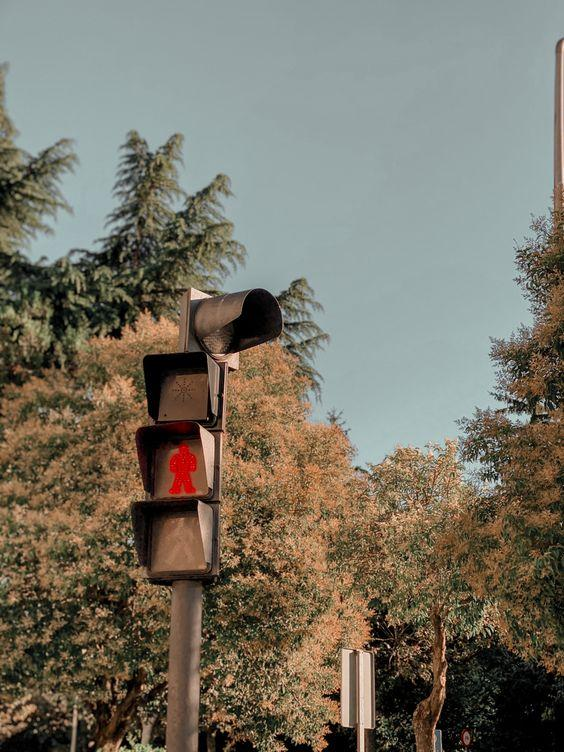red: (124, 344, 236, 574)
